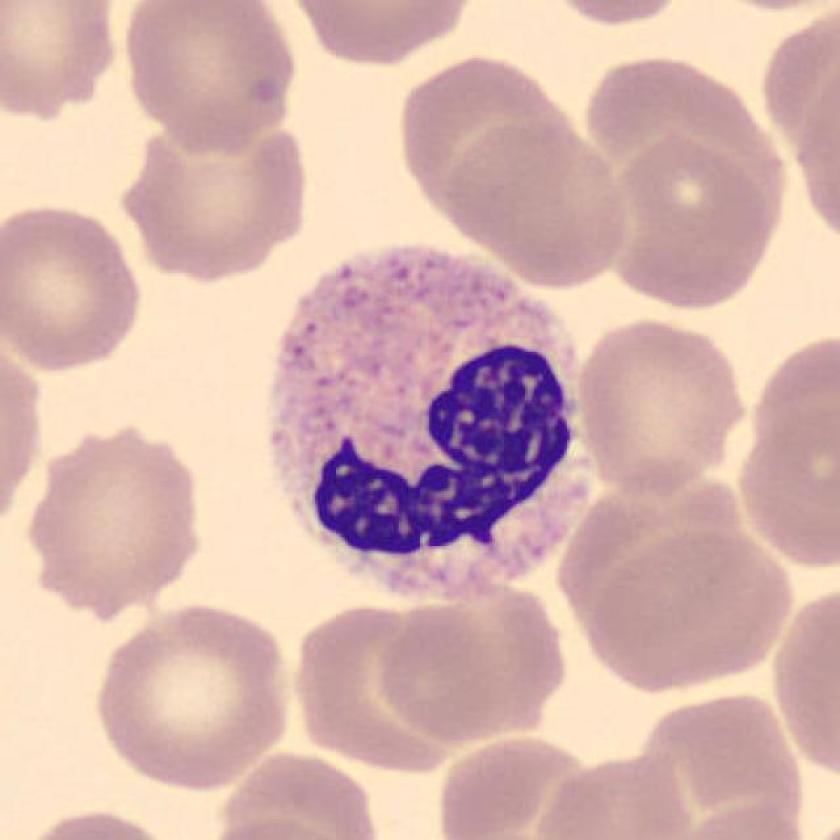neutrophil: (271, 244, 593, 601)
